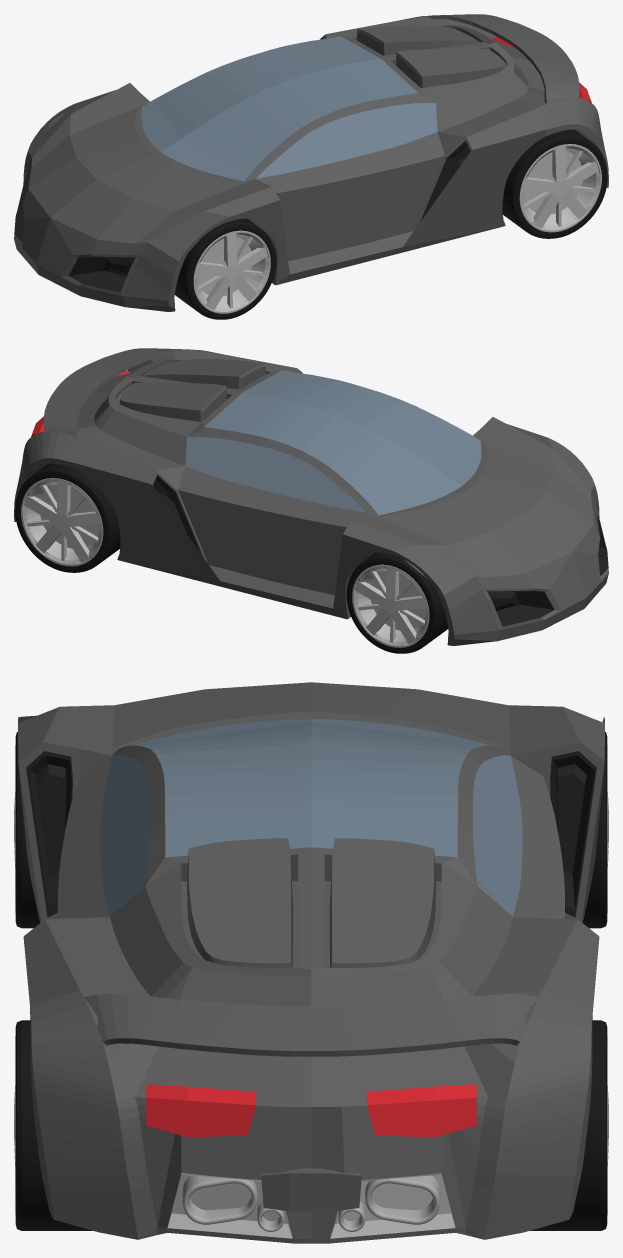
File: CarTingGrey.fbx
3 renders of one model, top to bottom at view 1: azimuth 30°, elevation 25°; view 2: azimuth 150°, elevation 25°; view 3: azimuth 270°, elevation 25°, orthographic. The views are drawn at different scales.
Visible parts, largest first — view 1: Body, Circle.002, Circle.003; view 2: Body, Circle.001, Circle.000; view 3: Body, Brake, Circle.001, Circle.002, Circle.000, Circle.003.
Part boxes in pixels (<box>): Body: <box>14,14,608,311</box>; Circle.002: <box>502,129,607,238</box>; Circle.003: <box>174,218,276,319</box>; Body: <box>14,348,608,645</box>; Circle.001: <box>15,463,120,572</box>; Circle.000: <box>346,552,448,653</box>; Body: <box>18,682,604,1243</box>; Brake: <box>146,1084,476,1137</box>; Circle.001: <box>530,1020,608,1230</box>; Circle.002: <box>14,1020,92,1230</box>; Circle.000: <box>583,732,608,928</box>; Circle.003: <box>14,732,39,928</box>.
Size of the model in its own units: 545 by 154 by 278.
